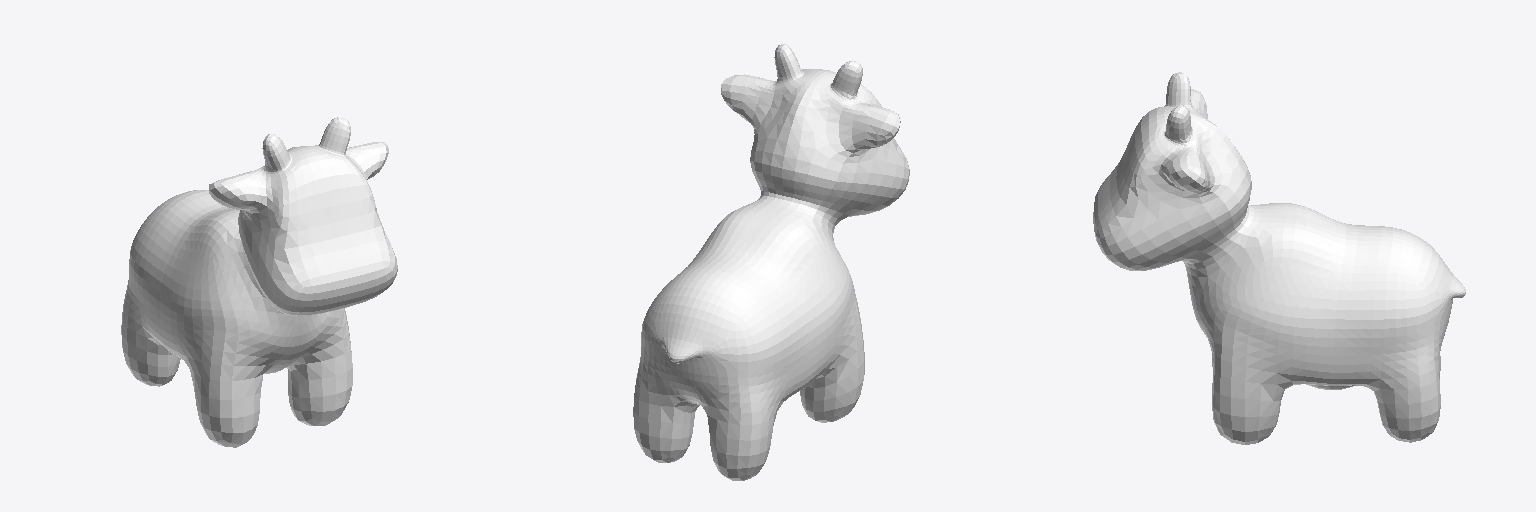
The model's file is spot_triangulated.obj.
3 views of the same model, side by side, from view 1: azimuth 30°, elevation 25°; view 2: azimuth 150°, elevation 25°; view 3: azimuth 270°, elevation 25° (orthographic).
Parts seen in each view (by area): view 1: spot; view 2: spot; view 3: spot.
Part boxes in pixels (x1,y1,x2,y2): spot: (121, 117, 397, 447); spot: (633, 44, 909, 480); spot: (1093, 72, 1465, 444).
Bounding box in the file's own units: 0.549 × 0.984 × 1.